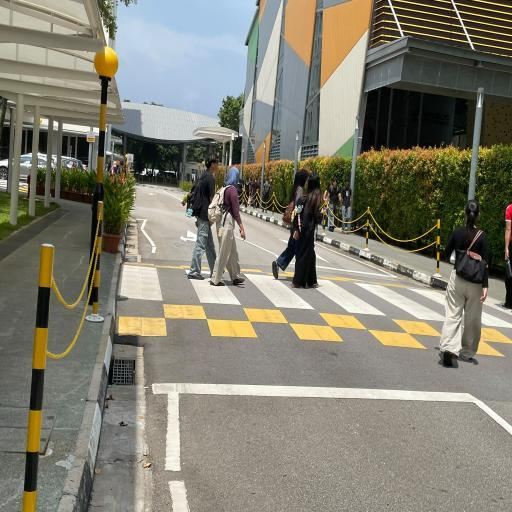person_right: (212, 158, 247, 290), (186, 148, 220, 280), (272, 169, 309, 279), (292, 174, 322, 288)
